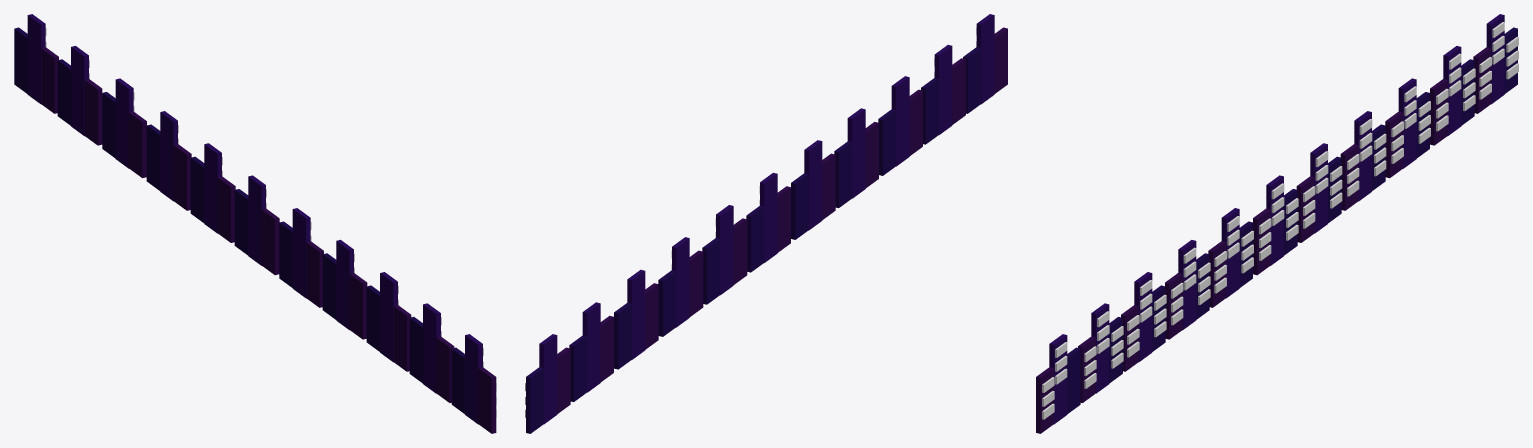
The model's file is горизонт.fbx.
3 views of the same model, side by side, from view 1: azimuth 30°, elevation 25°; view 2: azimuth 150°, elevation 25°; view 3: azimuth 330°, elevation 25° (orthographic).
Parts seen in each view (by area): view 1: Cube.025, Cube.074, Cube.023, Cube.050, Cube.086, Cube.011, Cube.110, Cube.122, Cube.038, Cube.062, Cube.098, Cube.012 (+21 smaller); view 2: Cube.074, Cube.025, Cube.023, Cube.011, Cube.086, Cube.098, Cube.110, Cube.122, Cube.050, Cube.038, Cube.062, Cube.037 (+21 smaller); view 3: Cube.011, Cube.086, Cube.098, Cube.023, Cube.122, Cube.025, Cube.074, Cube.110, Cube.038, Cube.050, Cube.062, Cube.121 (+21 smaller).
Part boxes in pixels (left/top/right/bottom): Cube.025: left=27, top=14, right=45, bottom=104; Cube.074: left=292, top=208, right=310, bottom=298; Cube.023: left=115, top=78, right=133, bottom=168; Cube.050: left=204, top=143, right=221, bottom=233; Cube.086: left=336, top=239, right=353, bottom=330; Cube.011: left=71, top=46, right=88, bottom=136; Cube.110: left=423, top=303, right=440, bottom=393; Cube.122: left=465, top=334, right=482, bottom=424; Cube.038: left=160, top=111, right=177, bottom=201; Cube.062: left=248, top=175, right=265, bottom=265; Cube.098: left=380, top=272, right=397, bottom=362; Cube.012: left=84, top=79, right=102, bottom=145; Cube.074: left=804, top=140, right=822, bottom=230; Cube.025: left=539, top=334, right=557, bottom=424; Cube.023: left=627, top=269, right=645, bottom=359; Cube.011: left=582, top=302, right=600, bottom=392; Cube.086: left=847, top=108, right=865, bottom=198; Cube.098: left=891, top=76, right=909, bottom=166; Cube.110: left=934, top=45, right=952, bottom=134; Cube.122: left=976, top=14, right=994, bottom=104; Cube.050: left=716, top=205, right=733, bottom=295; Cube.038: left=672, top=237, right=689, bottom=327; Cube.062: left=760, top=172, right=777, bottom=262; Cube.037: left=658, top=270, right=676, bottom=336; Cube.011: left=1443, top=46, right=1461, bottom=136; Cube.086: left=1178, top=240, right=1196, bottom=330; Cube.098: left=1134, top=272, right=1152, bottom=361; Cube.023: left=1398, top=78, right=1416, bottom=168; Cube.122: left=1049, top=334, right=1067, bottom=424; Cube.025: left=1486, top=14, right=1504, bottom=104; Cube.074: left=1221, top=208, right=1239, bottom=298; Cube.110: left=1091, top=303, right=1109, bottom=393; Cube.038: left=1354, top=111, right=1371, bottom=201; Cube.050: left=1310, top=143, right=1327, bottom=233; Cube.062: left=1266, top=175, right=1283, bottom=265; Cube.121: left=1067, top=347, right=1080, bottom=413.
Bounding box in the file's own units: 284 × 3347 × 36345.
